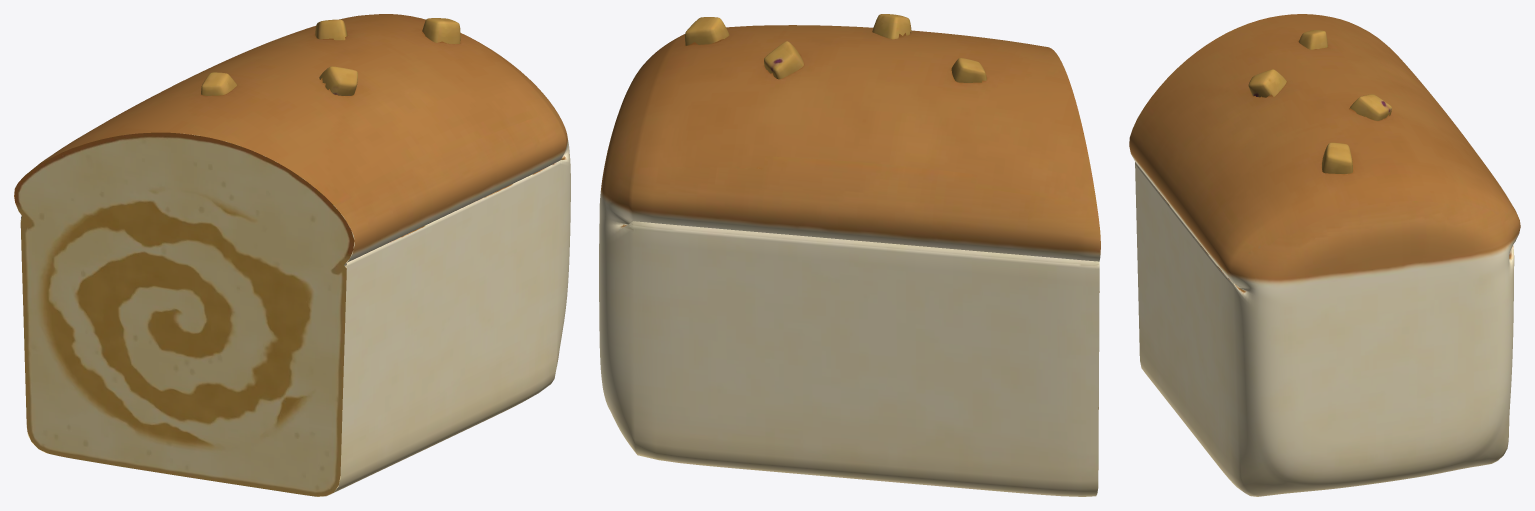
The model's file is loaf--sweetpotato-puree.glb.
3 views of the same model, side by side, from view 1: azimuth 30°, elevation 25°; view 2: azimuth 150°, elevation 25°; view 3: azimuth 270°, elevation 25° (orthographic). The views are drawn at different scales.
Visible parts, largest first — view 1: loaf_sweetpotato-puree; view 2: loaf_sweetpotato-puree; view 3: loaf_sweetpotato-puree.
Part boxes in pixels (left/top/right/bottom): loaf_sweetpotato-puree: left=14, top=14, right=570, bottom=496; loaf_sweetpotato-puree: left=599, top=14, right=1100, bottom=496; loaf_sweetpotato-puree: left=1129, top=14, right=1520, bottom=496.
Size of the model in its own units: 1.04 by 0.7457 by 0.7774.
1 material, 1 textured.
